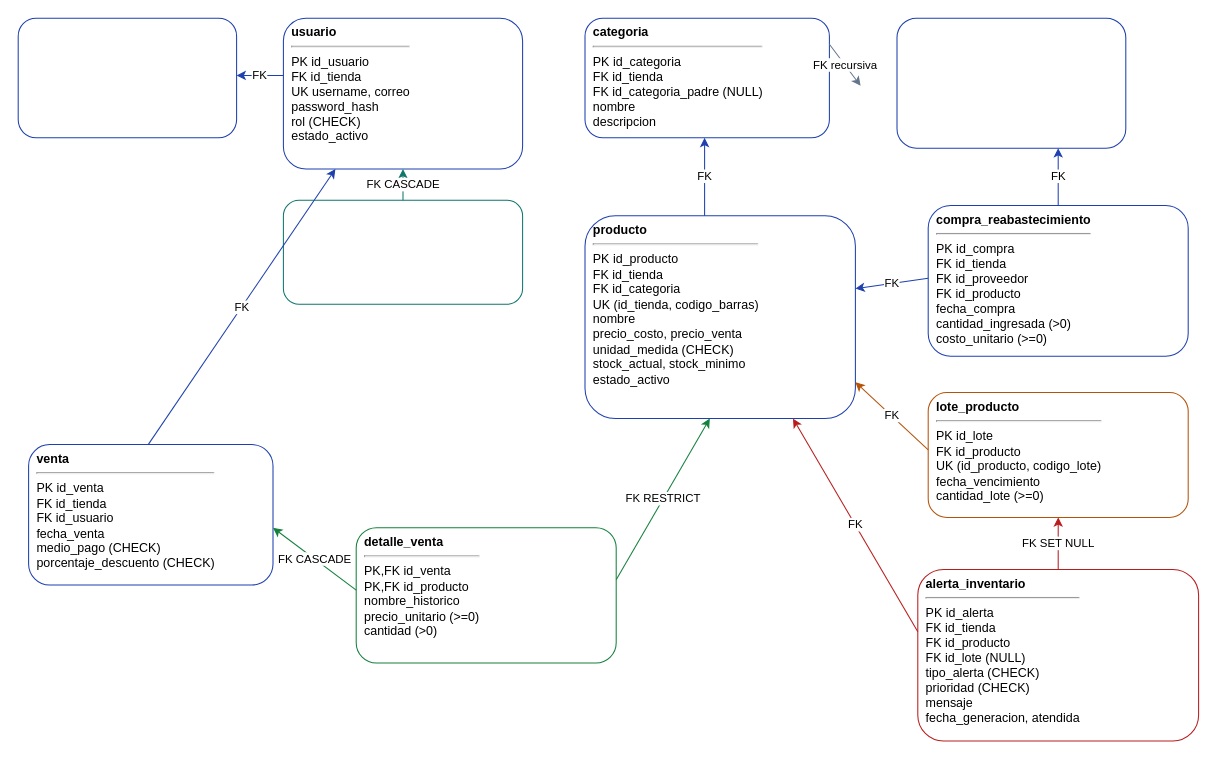
This 1217x759 diagram has some shape labels left out. The shapes that lost their labels are listed below. From the top down, each one's centre as x and y in pixels, then its label:
At point (127, 77): "tienda PK id_tienda UK nit nombre estado_activo fecha_registro".
At point (1011, 82): "proveedor PK id_proveedor FK id_tienda nombre telefono ciudad, departamento".
At point (402, 251): "telefono_usuario PK id_telefono FK id_usuario numero tipo_telefono (CHECK)".
